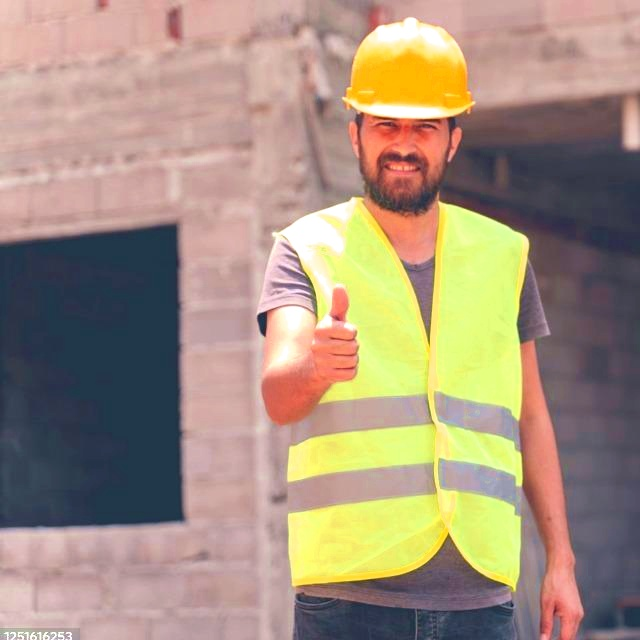Con_Casco: (344, 18, 475, 212)
Con_Chaleco: (280, 202, 530, 586)
